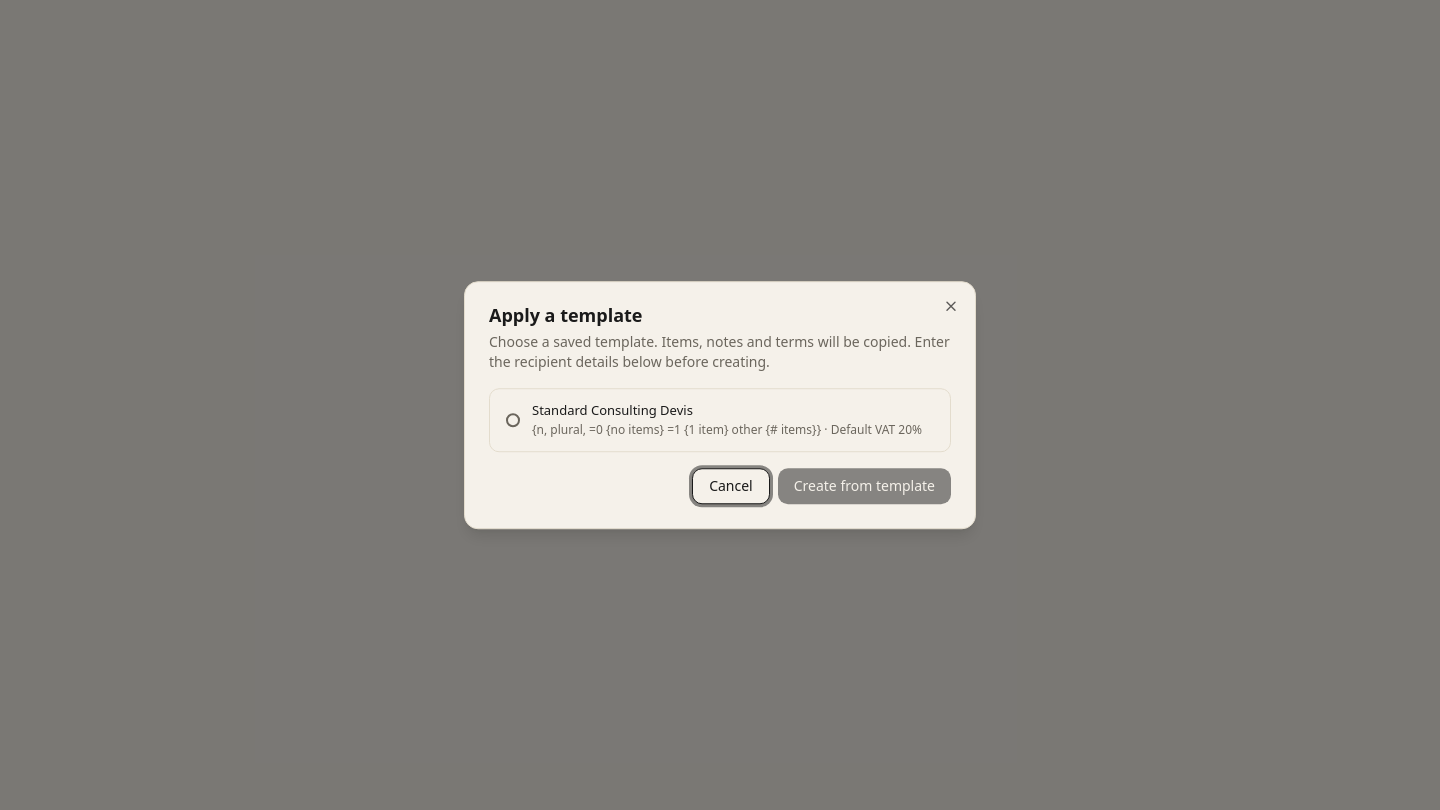
Scenario: test_apply_template_dialog_lists_filtered_by_kind_and_creates_doc › shows recipient fields after selecting a template
Click the text "Standard Consulting Devis".
click(612, 410)  # box 532,401 -> 693,419
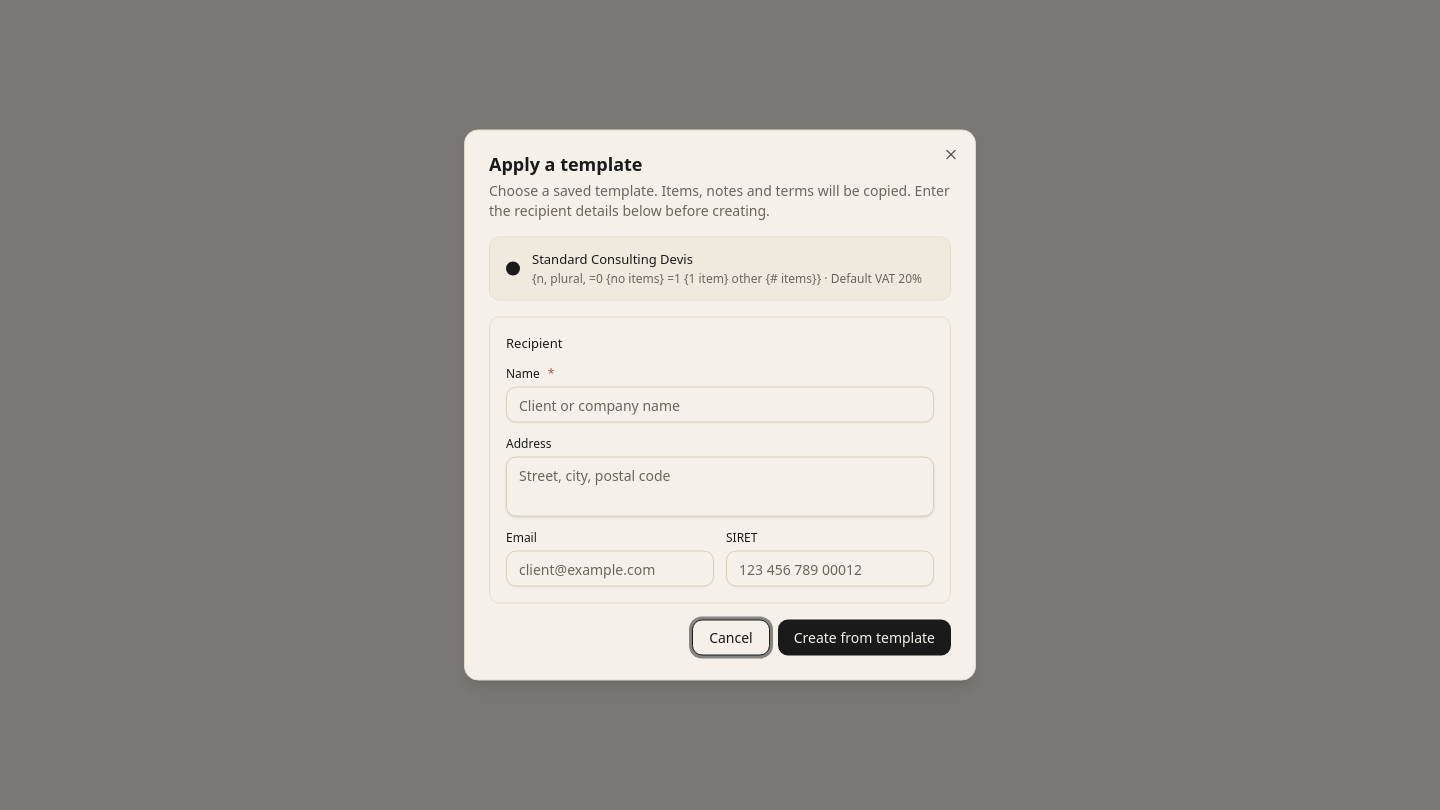
Check: the field labelled "Name *" is shown, box 506,386 -> 934,422
